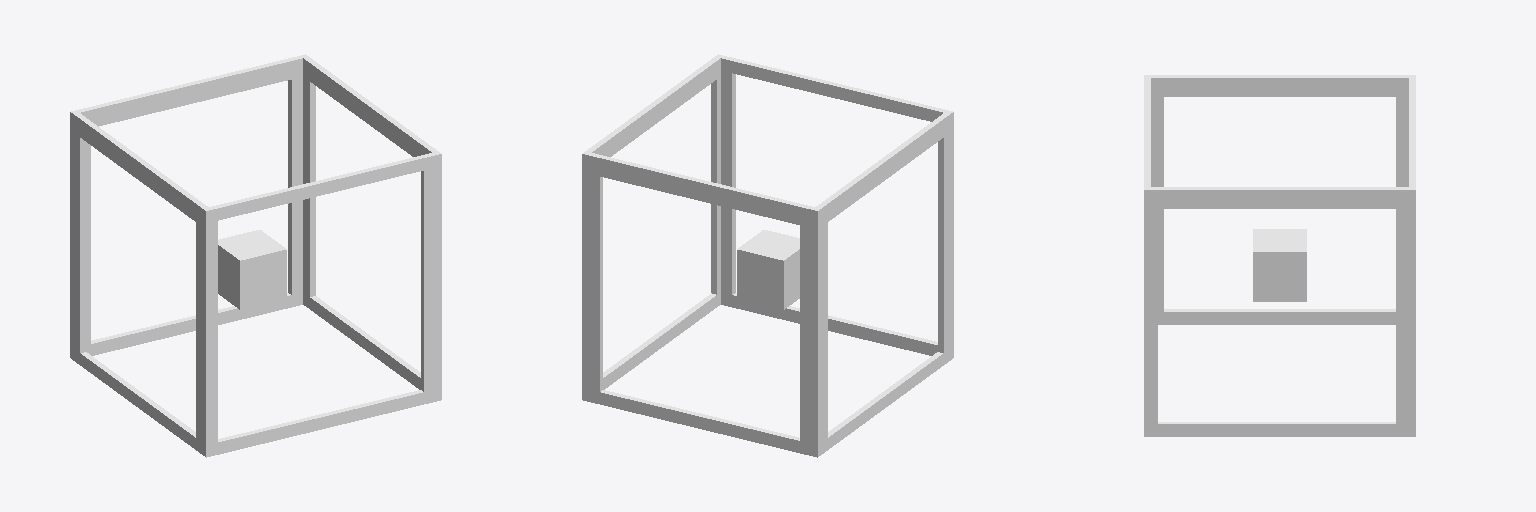
The model's file is gdplayer.obj.
The picture shows the model from 3 angles: view 1: azimuth 30°, elevation 25°; view 2: azimuth 150°, elevation 25°; view 3: azimuth 270°, elevation 25°; orthographic projection.
Parts seen in each view (by area): view 1: object 1; view 2: object 1; view 3: object 1.
Boxes of the visible parts, x1=… form: object 1: x1=70, y1=54, x2=441, y2=457; object 1: x1=582, y1=54, x2=953, y2=457; object 1: x1=1144, y1=75, x2=1415, y2=436.
Bounding box in the file's own units: 4 × 4 × 4.